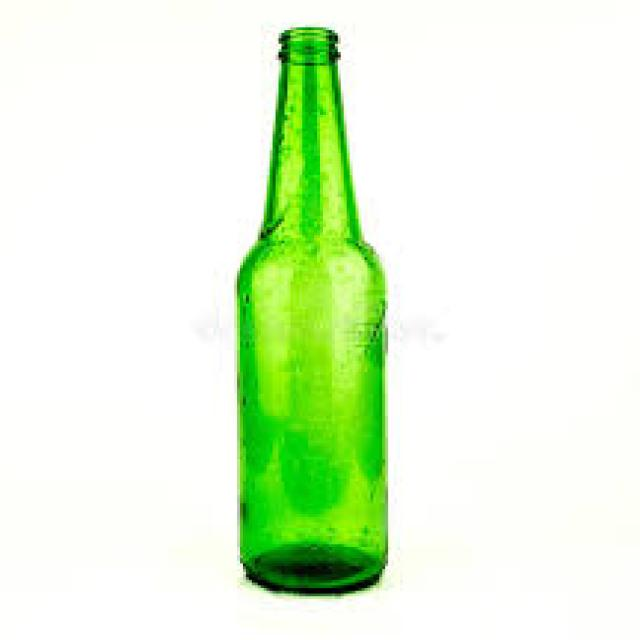glass: (234, 25, 382, 591)
